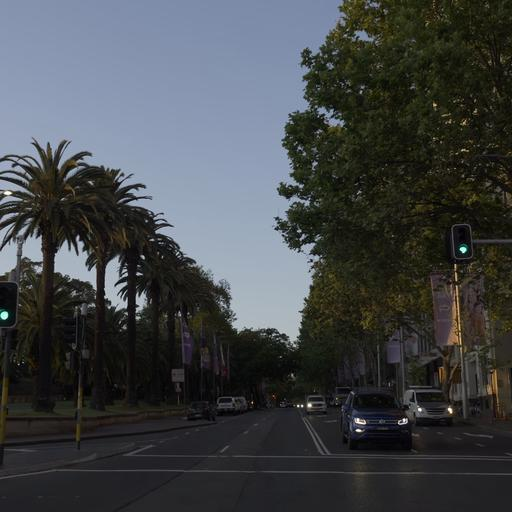Street light: (0, 187, 21, 466), (62, 300, 92, 449), (448, 222, 473, 262), (0, 280, 18, 328)
